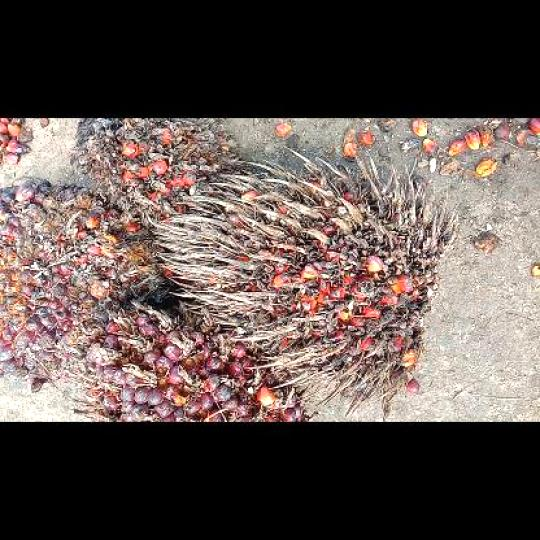masak: (0, 180, 171, 390), (63, 301, 308, 421)
terlalu masak: (153, 146, 455, 420), (71, 118, 237, 217)
